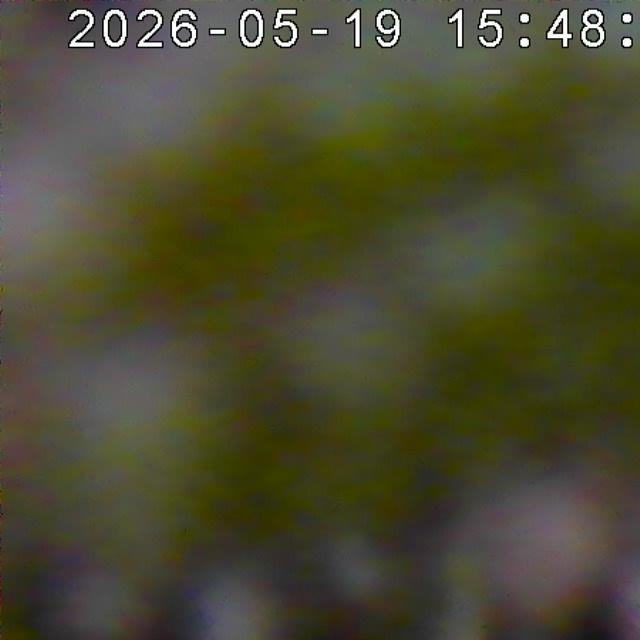SeaGrape: (52, 567, 153, 640)
